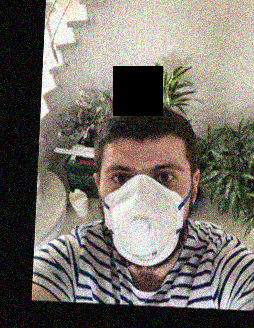with_mask: (98, 148, 186, 270)
